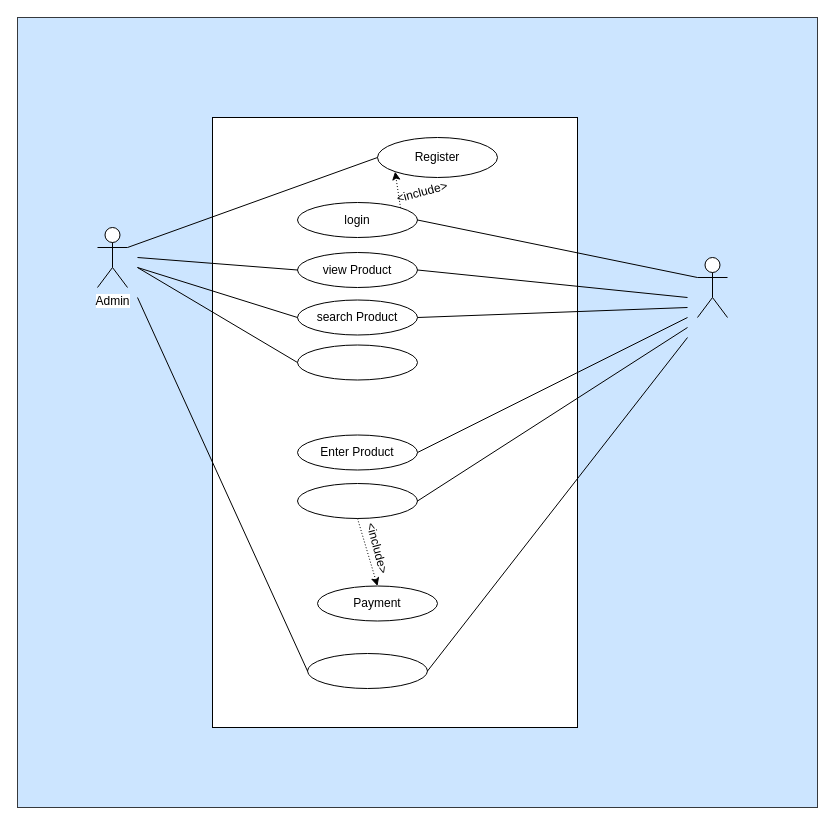
Image size: 835x825. Some labels were removed from this diagram. Here are the shapes that lost their labels. From the top down, the centre of each, then its label:
At [712,287]: "Retailer".
At [357,362]: "Update Database".
At [357,500]: "Generate Bill".
At [367,670]: "View Bill Details".
